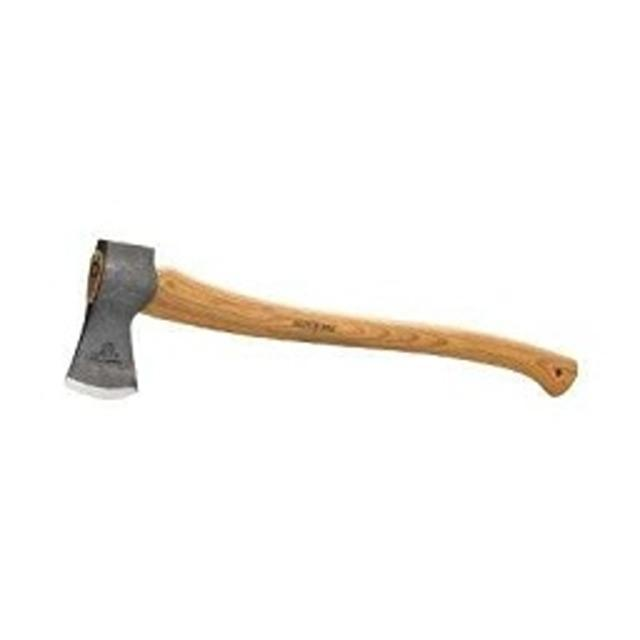ax: (52, 222, 590, 420)
